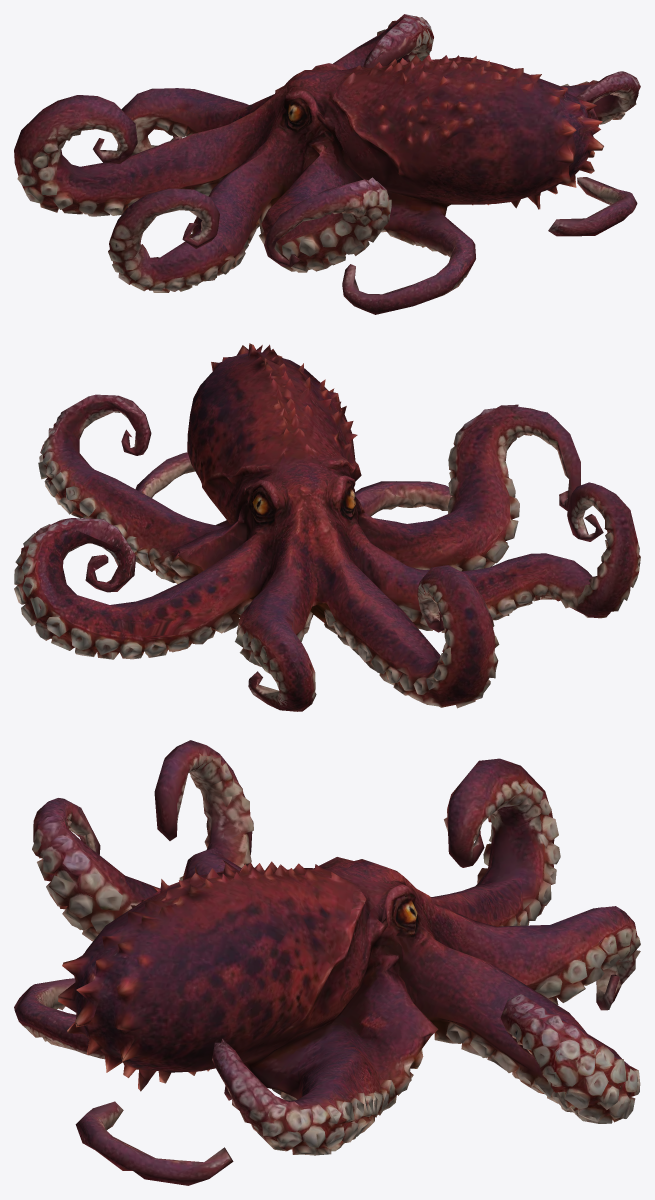
Rendered from beast-kraken.glb.
The picture shows the model from 3 angles, top to bottom: view 1: azimuth 30°, elevation 25°; view 2: azimuth 150°, elevation 25°; view 3: azimuth 270°, elevation 25°; orthographic projection. The views are drawn at different scales.
Visible parts, largest first — view 1: tripo_node_5e17682c-5f5f-4cb5-8095-10f728041cf3; view 2: tripo_node_5e17682c-5f5f-4cb5-8095-10f728041cf3; view 3: tripo_node_5e17682c-5f5f-4cb5-8095-10f728041cf3.
Boxes of the visible parts, x1,y1,x2,y2 form: tripo_node_5e17682c-5f5f-4cb5-8095-10f728041cf3: (14,14,640,314); tripo_node_5e17682c-5f5f-4cb5-8095-10f728041cf3: (14,343,640,711); tripo_node_5e17682c-5f5f-4cb5-8095-10f728041cf3: (14,740,640,1185).
Size of the model in its own units: 1 by 0.3124 by 0.7642.
1 material, 1 textured.
